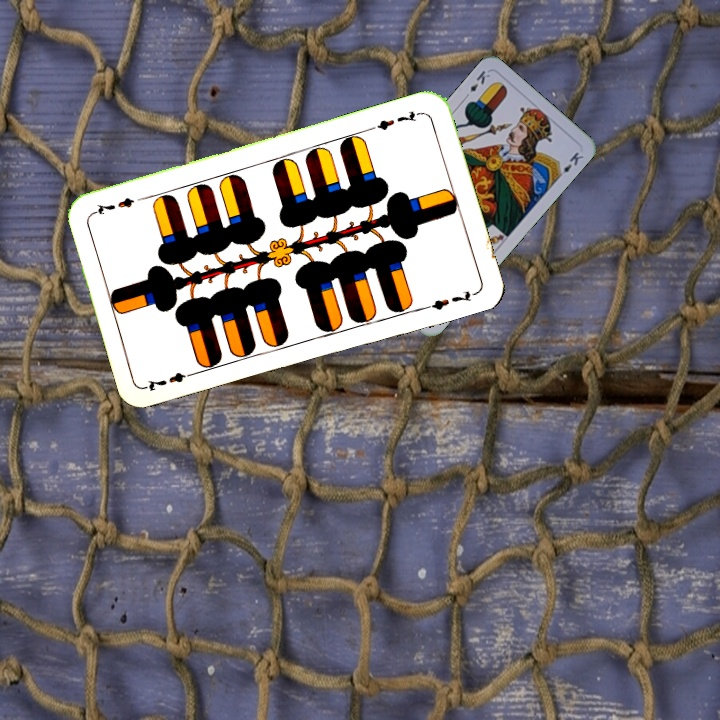E7: (142, 367, 200, 394), (367, 107, 425, 133)
EK: (460, 66, 493, 102)
